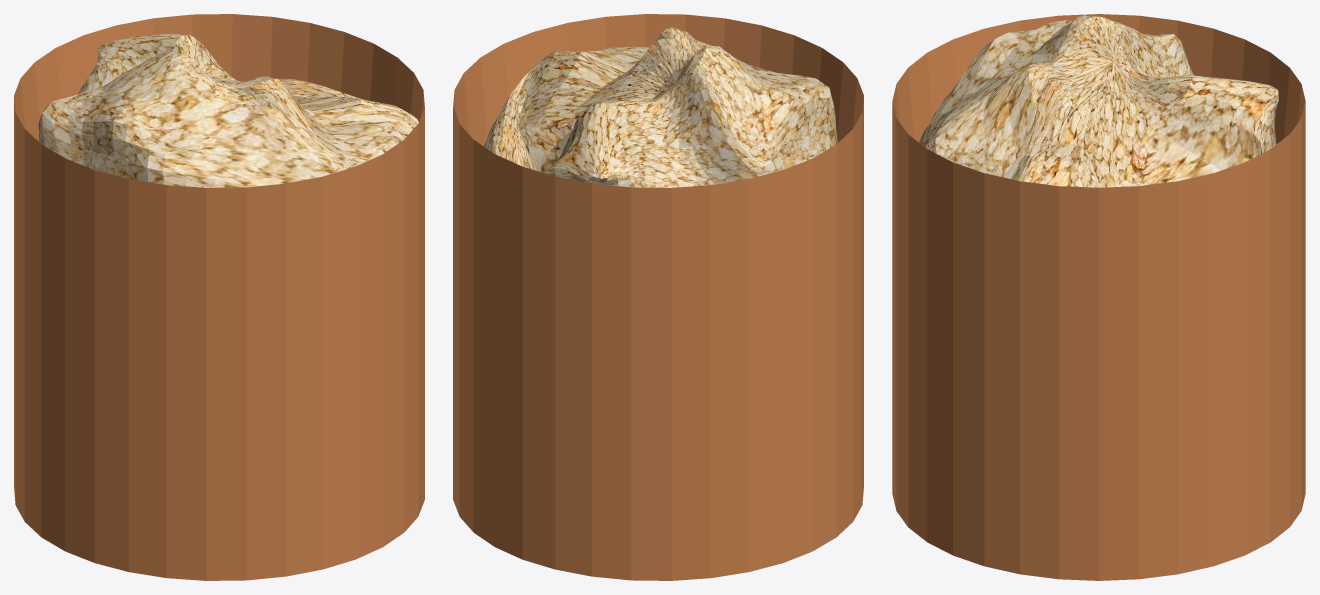
Rendered from Tepung Roti (1).fbx.
The picture shows the model from 3 angles, left to right: view 1: azimuth 30°, elevation 25°; view 2: azimuth 150°, elevation 25°; view 3: azimuth 270°, elevation 25°; orthographic projection.
Parts seen in each view (by area): view 1: Cylinder, Sphere; view 2: Cylinder, Sphere; view 3: Cylinder, Sphere.
Part boxes in pixels (left/top/right/bottom): Cylinder: left=14, top=14, right=424, bottom=580; Sphere: left=38, top=33, right=418, bottom=187; Cylinder: left=453, top=14, right=863, bottom=580; Sphere: left=484, top=27, right=837, bottom=187; Cylinder: left=892, top=14, right=1305, bottom=580; Sphere: left=919, top=15, right=1278, bottom=187.
Bounding box in the file's own units: 48.37 × 59.09 × 48.59.
